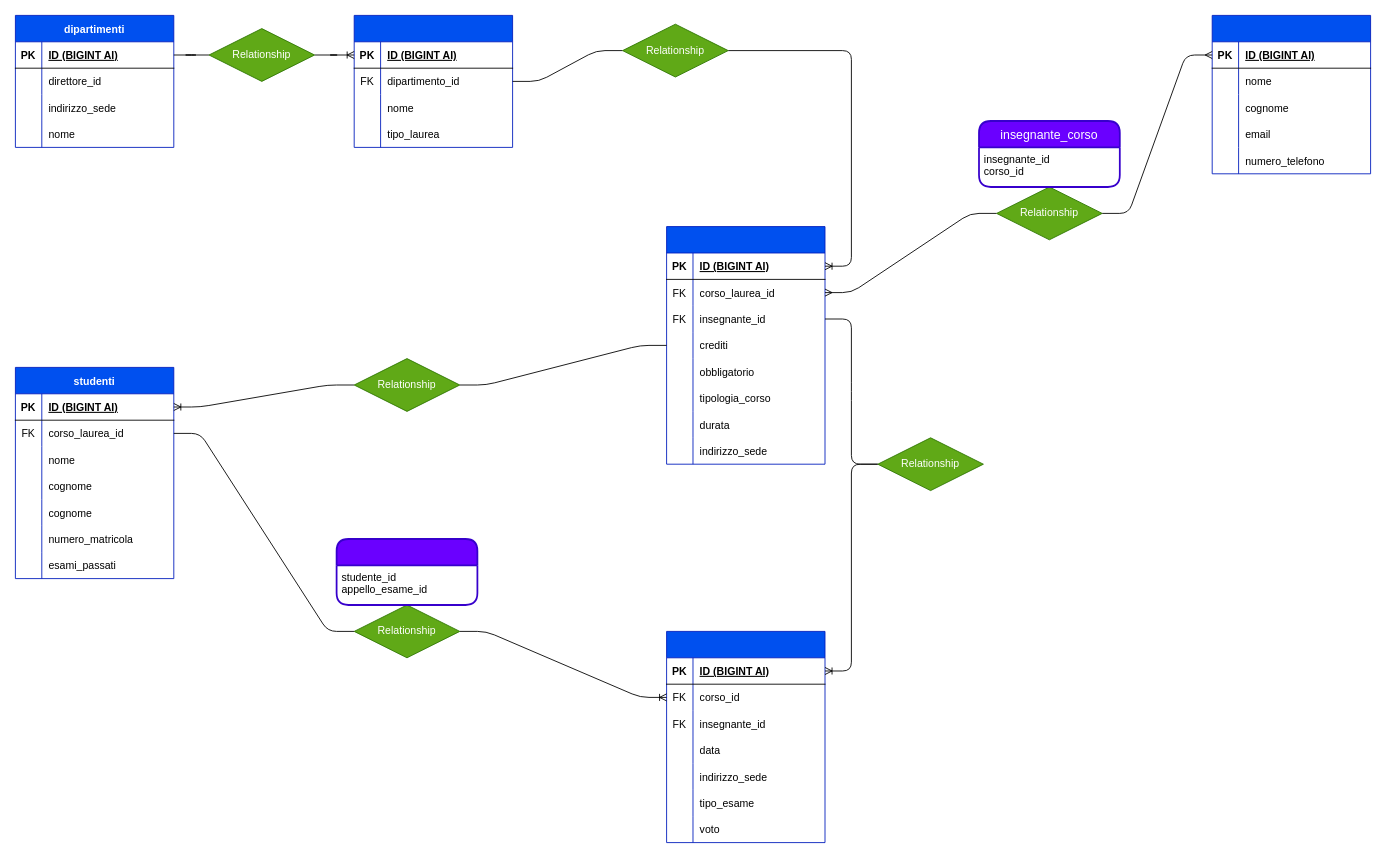
Image size: 1386x858. Some labels were removed from this diagram. Here are the shapes that lost their labels. From the top down, the box of each, then its label:
(353, 15, 513, 147): corsi_laurea
(1211, 15, 1371, 174): insegnanti
(666, 226, 825, 464): corsi
(335, 538, 478, 605): studente_esame
(666, 631, 825, 843): esami
